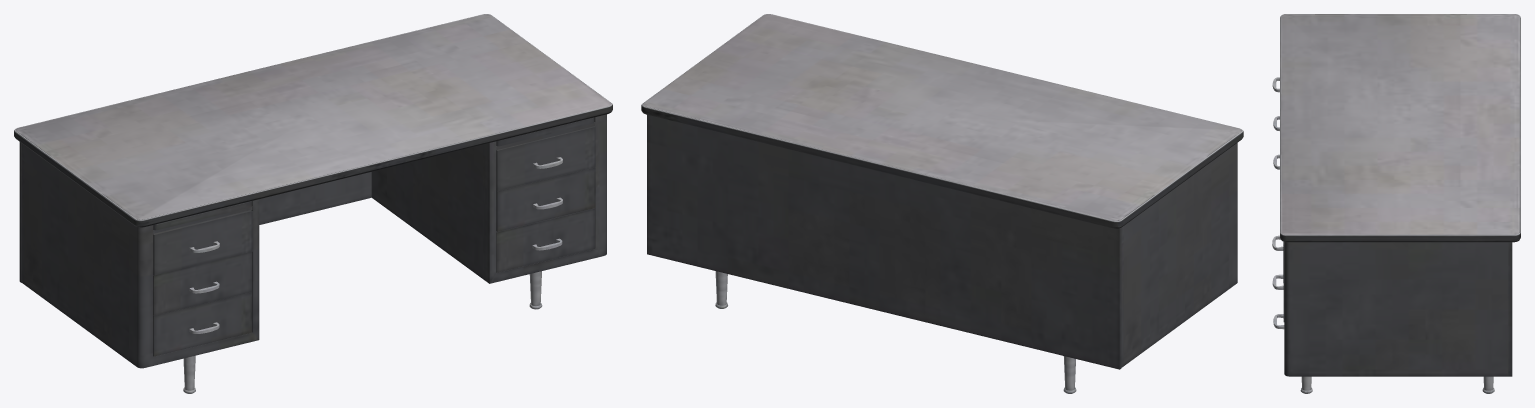
Rendered from metal_office_desk.glb.
3 views of the same model, side by side, from view 1: azimuth 30°, elevation 25°; view 2: azimuth 150°, elevation 25°; view 3: azimuth 270°, elevation 25° (orthographic). The views are drawn at different scales.
Visible parts, largest first — view 1: metal_office_desk, metal_office_desk_drawer_04, metal_office_desk_drawer_01, metal_office_desk_drawer_02, metal_office_desk_drawer_03, metal_office_desk_drawer_06, metal_office_desk_drawer_05, metal_office_desk_tray_01, metal_office_desk_tray_02; view 2: metal_office_desk; view 3: metal_office_desk.
Part boxes in pixels (x1=…): metal_office_desk: x1=14, y1=14, x2=612, y2=393; metal_office_desk_drawer_04: x1=153, y1=210, x2=252, y2=275; metal_office_desk_drawer_01: x1=496, y1=126, x2=595, y2=191; metal_office_desk_drawer_02: x1=496, y1=167, x2=595, y2=231; metal_office_desk_drawer_03: x1=496, y1=208, x2=594, y2=272; metal_office_desk_drawer_06: x1=153, y1=292, x2=251, y2=356; metal_office_desk_drawer_05: x1=153, y1=252, x2=251, y2=315; metal_office_desk_tray_01: x1=153, y1=201, x2=251, y2=230; metal_office_desk_tray_02: x1=496, y1=117, x2=594, y2=146; metal_office_desk: x1=641, y1=14, x2=1243, y2=393; metal_office_desk: x1=1280, y1=14, x2=1520, y2=393.
Size of the model in its own units: 2 by 0.7875 by 0.9472.
Materials: 1 (1 with a texture image).
